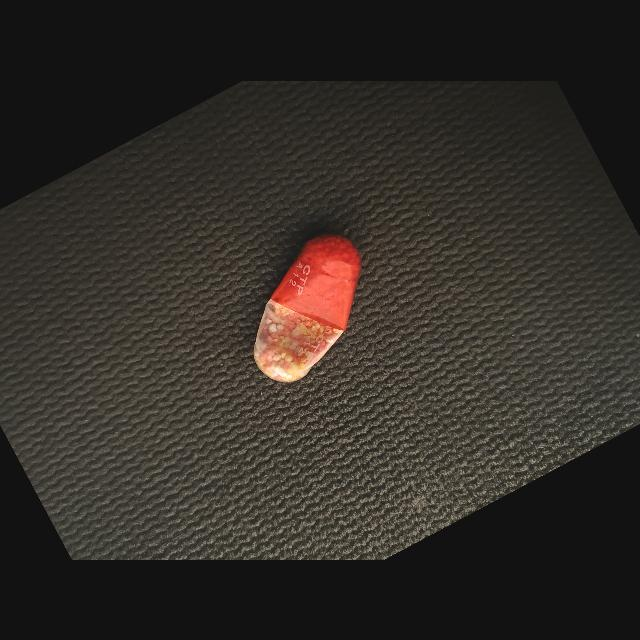Defective Capsule: (254, 233, 362, 382)
